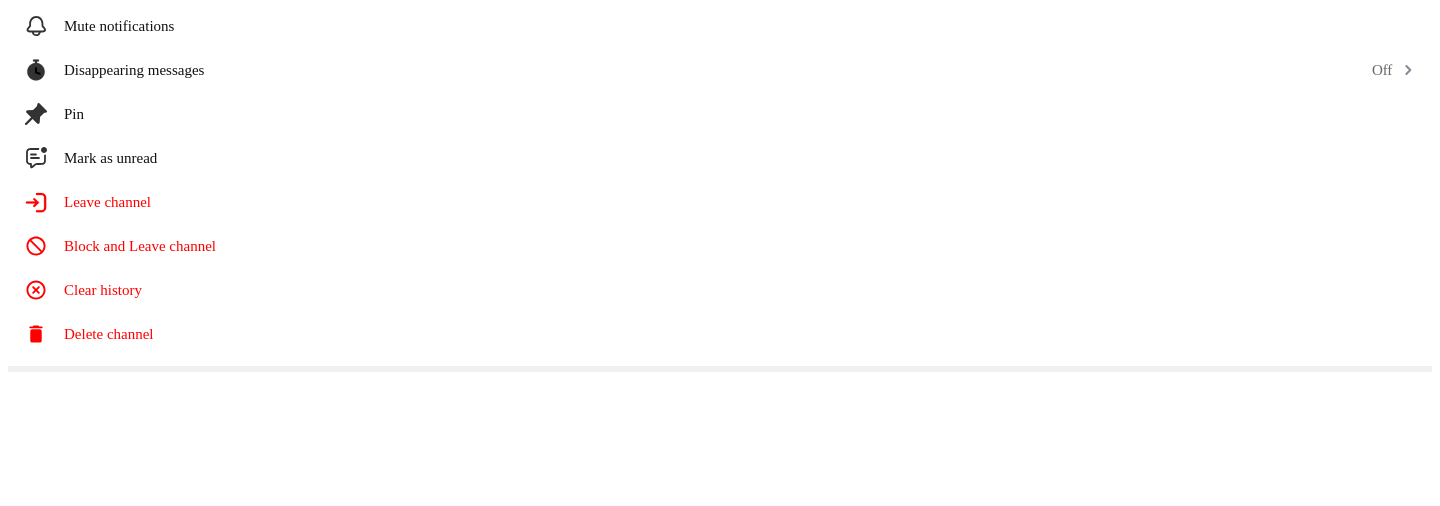
Test: Actions › Action dispatches › clicking Delete channel opens confirm popup
Click the list item "Delete channel". click: x=89, y=334
box: x1=24 y1=322 x2=154 y2=346
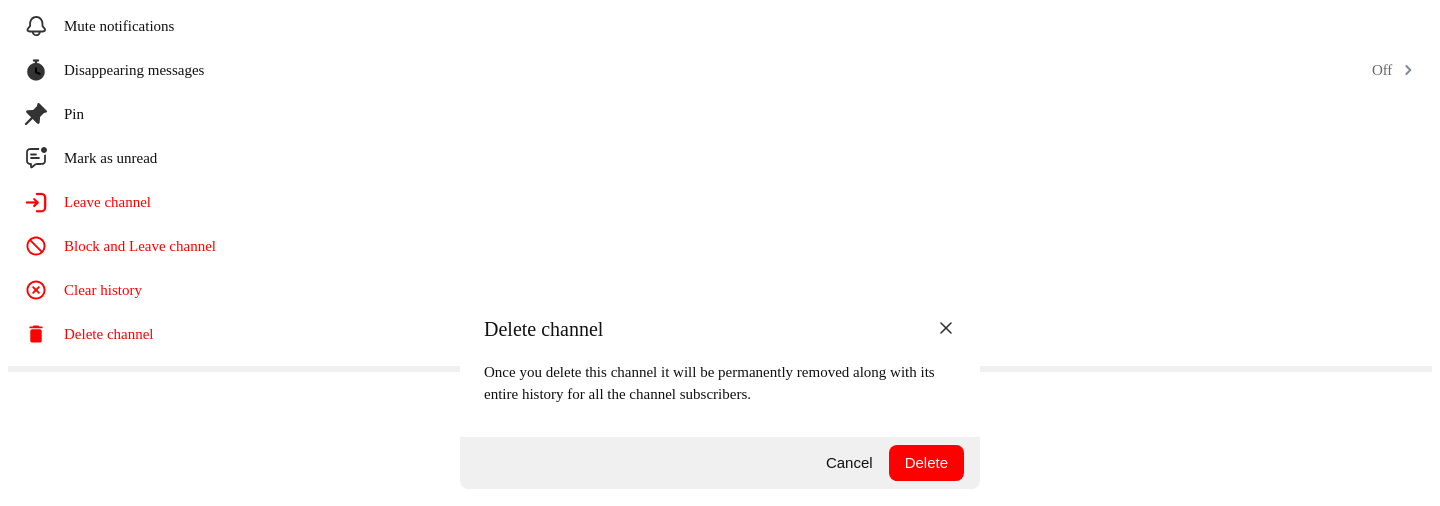
Expected: the button "Delete" is shown, x1=889 y1=444 x2=964 y2=480
